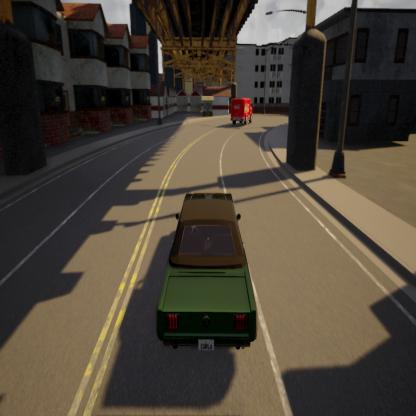Cars: (146, 178, 267, 357), (229, 92, 256, 130)
